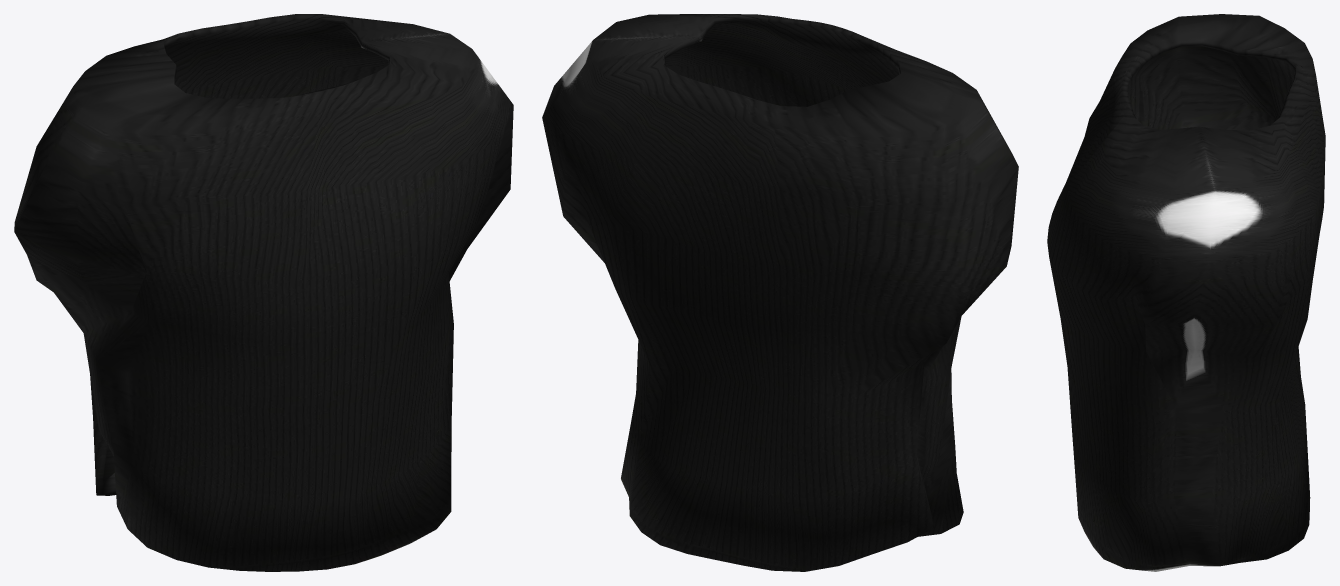
Rendered from 4898af1e-4522-4cfd-888c-320b7308f288.glb.
The picture shows the model from 3 angles, left to right: view 1: azimuth 30°, elevation 25°; view 2: azimuth 150°, elevation 25°; view 3: azimuth 270°, elevation 25°; orthographic projection. The views are drawn at different scales.
Parts seen in each view (by area): view 1: garment; view 2: garment; view 3: garment.
Boxes of the visible parts, bbox=[...] form: garment: bbox=[14, 14, 513, 571]; garment: bbox=[542, 14, 1018, 571]; garment: bbox=[1047, 14, 1325, 571].
Bounding box in the file's own units: 0.5638 × 0.5377 × 0.3178.
1 material, 1 textured.
